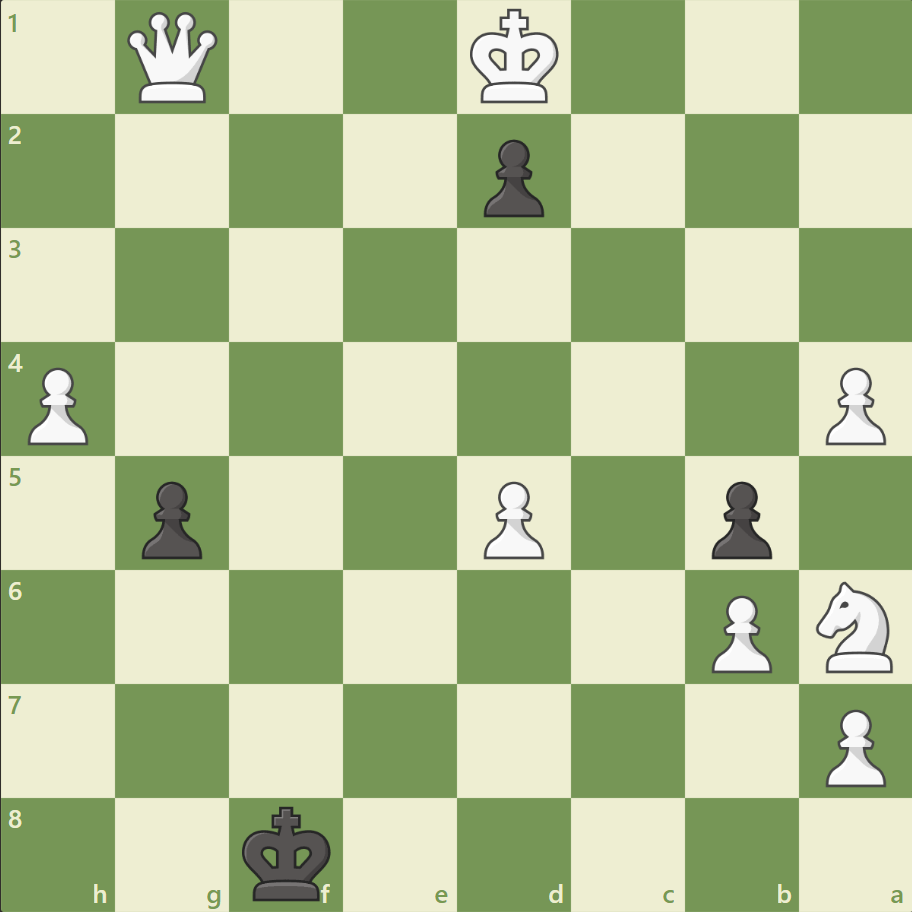K: (465, 4, 565, 112)
N: (806, 575, 903, 677)
P: (701, 586, 776, 677), (474, 473, 549, 564), (20, 359, 95, 450), (815, 700, 889, 791), (815, 359, 889, 450)
Q: (124, 9, 223, 108)
k: (238, 798, 338, 906)
p: (701, 473, 776, 564), (133, 473, 208, 564), (474, 132, 549, 223)
